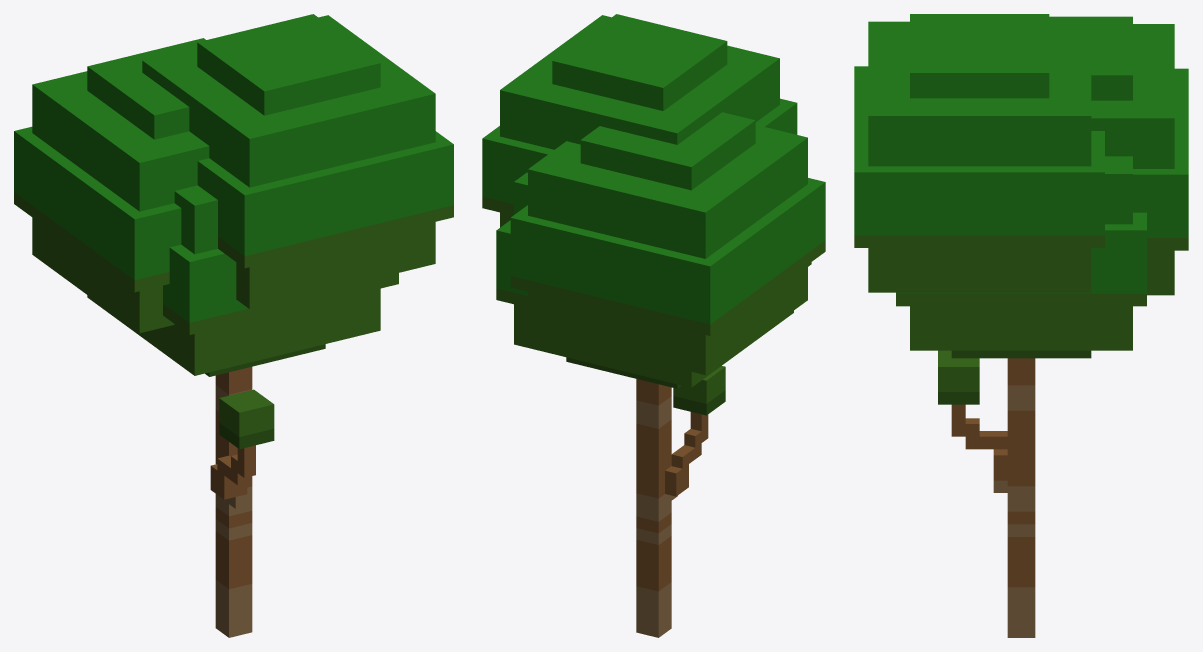
Rendered from Boom5.fbx.
3 views of the same model, side by side, from view 1: azimuth 30°, elevation 25°; view 2: azimuth 150°, elevation 25°; view 3: azimuth 270°, elevation 25° (orthographic). The views are drawn at different scales.
Visible parts, largest first — view 1: Boom5:Boom5; view 2: Boom5:Boom5; view 3: Boom5:Boom5.
Part boxes in pixels (left/top/right/bottom): Boom5:Boom5: left=14, top=14, right=453, bottom=637; Boom5:Boom5: left=482, top=14, right=825, bottom=637; Boom5:Boom5: left=854, top=14, right=1188, bottom=637.
Size of the model in its own units: 24 by 48 by 24.
1 material, 1 textured.
